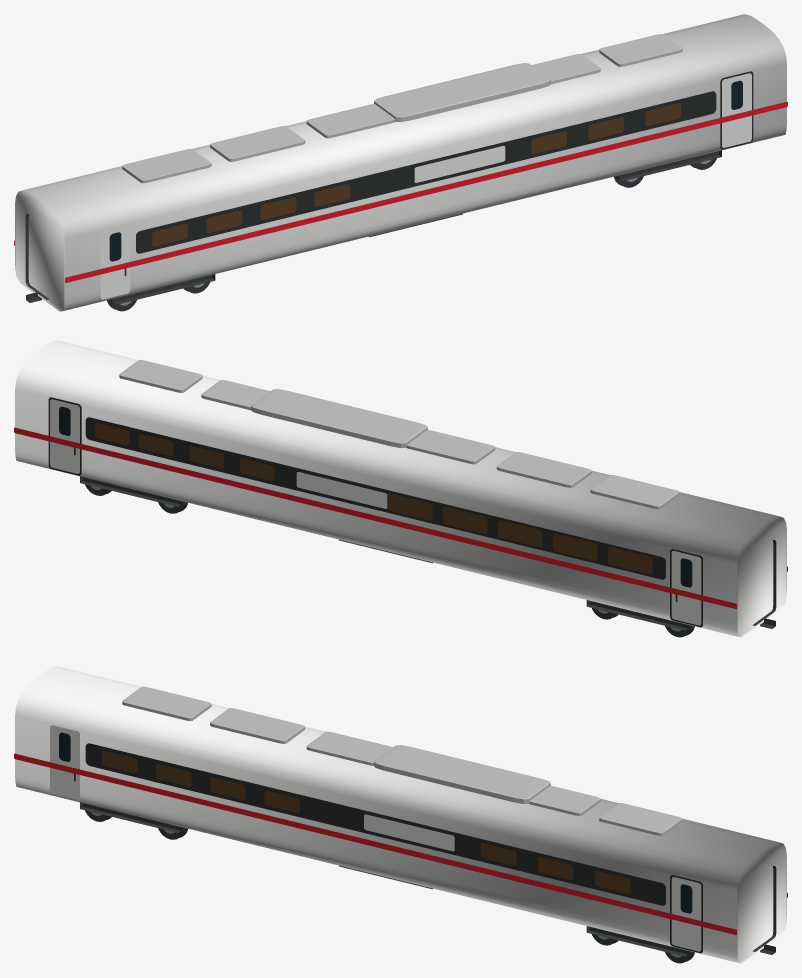
File: ice3-br403-v2-unified-bordrestaurant-403-3.glb
The picture shows the model from 3 angles, top to bottom: view 1: azimuth 30°, elevation 25°; view 2: azimuth 150°, elevation 25°; view 3: azimuth 330°, elevation 25°; orthographic projection.
Parts seen in each view (by area): view 1: ice3_continuity_shared_transformer_shell.002, ice3_unified_bordrestaurant_403_3_continuous_black_glazing_b, ice3_v2_bordrestaurant_403_3_kitchen_hvac, ice3_unified_bordrestaurant_403_3_shared_red_body_stripe_-1, ice3_v2_bordrestaurant_403_3_roof_fairing_1, ice3_v2_bordrestaurant_403_3_roof_fairing_0, ice3_v2_bordrestaurant_403_3_roof_fairing_2, ice3_unified_bordrestaurant_403_3_rear_door_leaf_-1, ice3_v2_bordrestaurant_403_3_roof_fairing_4, ice3_unified_bordrestaurant_403_3_front_door_leaf_-1, ice3_unified_bordrestaurant_403_3_galley_blank_-1, ice3_v2_bordrestaurant_403_3_roof_fairing_3 (+9 smaller); view 2: ice3_continuity_shared_transformer_shell.002, ice3_unified_bordrestaurant_403_3_continuous_black_glazing_b, ice3_v2_bordrestaurant_403_3_kitchen_hvac, ice3_unified_bordrestaurant_403_3_shared_red_body_stripe_1, ice3_v2_bordrestaurant_403_3_roof_fairing_1, ice3_v2_bordrestaurant_403_3_roof_fairing_0, ice3_v2_bordrestaurant_403_3_roof_fairing_2, ice3_unified_bordrestaurant_403_3_rear_door_leaf_1, ice3_v2_bordrestaurant_403_3_roof_fairing_4, ice3_unified_bordrestaurant_403_3_front_door_leaf_1, ice3_unified_bordrestaurant_403_3_galley_blank_1, ice3_v2_bordrestaurant_403_3_roof_fairing_3 (+11 smaller); view 3: ice3_continuity_shared_transformer_shell.002, ice3_unified_bordrestaurant_403_3_continuous_black_glazing_b, ice3_v2_bordrestaurant_403_3_kitchen_hvac, ice3_unified_bordrestaurant_403_3_shared_red_body_stripe_-1, ice3_v2_bordrestaurant_403_3_roof_fairing_1, ice3_v2_bordrestaurant_403_3_roof_fairing_0, ice3_unified_bordrestaurant_403_3_front_door_leaf_-1, ice3_v2_bordrestaurant_403_3_roof_fairing_2, ice3_v2_bordrestaurant_403_3_roof_fairing_4, ice3_unified_bordrestaurant_403_3_rear_door_leaf_-1, ice3_unified_bordrestaurant_403_3_galley_blank_-1, ice3_v2_bordrestaurant_403_3_roof_fairing_3 (+9 smaller).
Part boxes in pixels (left/top/right/bottom): ice3_continuity_shared_transformer_shell.002: left=15, top=14, right=786, bottom=311; ice3_unified_bordrestaurant_403_3_continuous_black_glazing_b: left=136, top=91, right=716, bottom=253; ice3_v2_bordrestaurant_403_3_kitchen_hvac: left=374, top=63, right=550, bottom=121; ice3_unified_bordrestaurant_403_3_shared_red_body_stripe_-1: left=65, top=101, right=787, bottom=282; ice3_v2_bordrestaurant_403_3_roof_fairing_1: left=210, top=126, right=305, bottom=161; ice3_v2_bordrestaurant_403_3_roof_fairing_0: left=122, top=148, right=211, bottom=183; ice3_v2_bordrestaurant_403_3_roof_fairing_2: left=306, top=104, right=395, bottom=138; ice3_unified_bordrestaurant_403_3_rear_door_leaf_-1: left=100, top=225, right=130, bottom=299; ice3_v2_bordrestaurant_403_3_roof_fairing_4: left=599, top=34, right=682, bottom=66; ice3_unified_bordrestaurant_403_3_front_door_leaf_-1: left=722, top=73, right=751, bottom=147; ice3_unified_bordrestaurant_403_3_galley_blank_-1: left=414, top=146, right=505, bottom=182; ice3_v2_bordrestaurant_403_3_roof_fairing_3: left=532, top=54, right=600, bottom=84; ice3_continuity_shared_transformer_shell.002: left=15, top=340, right=786, bottom=637; ice3_unified_bordrestaurant_403_3_continuous_black_glazing_b: left=85, top=417, right=665, bottom=579; ice3_v2_bordrestaurant_403_3_kitchen_hvac: left=251, top=389, right=427, bottom=447; ice3_unified_bordrestaurant_403_3_shared_red_body_stripe_1: left=14, top=427, right=736, bottom=608; ice3_v2_bordrestaurant_403_3_roof_fairing_1: left=496, top=452, right=591, bottom=487; ice3_v2_bordrestaurant_403_3_roof_fairing_0: left=590, top=474, right=679, bottom=509; ice3_v2_bordrestaurant_403_3_roof_fairing_2: left=406, top=430, right=495, bottom=464; ice3_unified_bordrestaurant_403_3_rear_door_leaf_1: left=671, top=551, right=701, bottom=625; ice3_v2_bordrestaurant_403_3_roof_fairing_4: left=119, top=360, right=202, bottom=392; ice3_unified_bordrestaurant_403_3_front_door_leaf_1: left=50, top=399, right=79, bottom=473; ice3_unified_bordrestaurant_403_3_galley_blank_1: left=296, top=472, right=387, bottom=508; ice3_v2_bordrestaurant_403_3_roof_fairing_3: left=201, top=380, right=269, bottom=410; ice3_continuity_shared_transformer_shell.002: left=15, top=666, right=786, bottom=963; ice3_unified_bordrestaurant_403_3_continuous_black_glazing_b: left=85, top=743, right=665, bottom=905; ice3_v2_bordrestaurant_403_3_kitchen_hvac: left=374, top=745, right=550, bottom=803; ice3_unified_bordrestaurant_403_3_shared_red_body_stripe_-1: left=14, top=753, right=736, bottom=934; ice3_v2_bordrestaurant_403_3_roof_fairing_1: left=210, top=708, right=305, bottom=743; ice3_v2_bordrestaurant_403_3_roof_fairing_0: left=122, top=686, right=211, bottom=721; ice3_unified_bordrestaurant_403_3_front_door_leaf_-1: left=671, top=877, right=701, bottom=951; ice3_v2_bordrestaurant_403_3_roof_fairing_2: left=306, top=731, right=392, bottom=765; ice3_v2_bordrestaurant_403_3_roof_fairing_4: left=599, top=803, right=682, bottom=835; ice3_unified_bordrestaurant_403_3_rear_door_leaf_-1: left=50, top=725, right=79, bottom=799; ice3_unified_bordrestaurant_403_3_galley_blank_-1: left=364, top=814, right=454, bottom=851; ice3_v2_bordrestaurant_403_3_roof_fairing_3: left=529, top=785, right=600, bottom=815.
Bounding box in the file's own units: 25.5 × 4.12 × 3.01.
